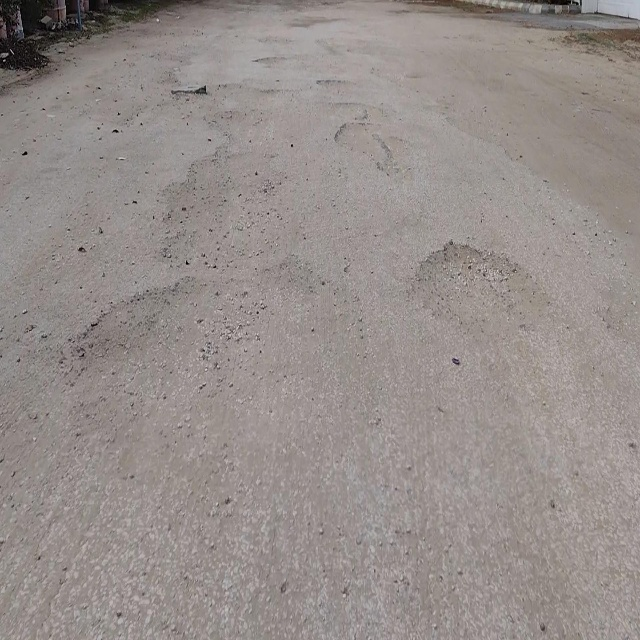pothole: (408, 236, 552, 347), (333, 122, 396, 176)
